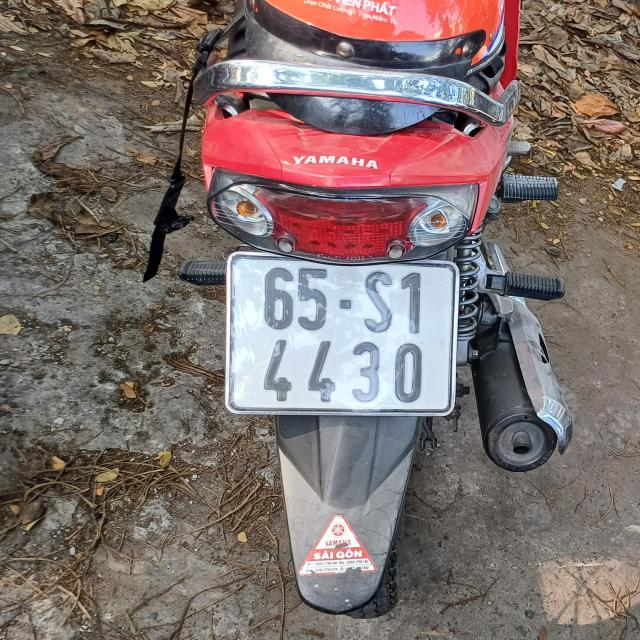0: (393, 339, 424, 406)
1: (398, 271, 424, 337)
3: (349, 340, 384, 403)
4: (260, 338, 294, 403), (307, 338, 339, 402)
5: (296, 266, 330, 330)
6: (263, 266, 294, 330)
S: (360, 264, 395, 333)
